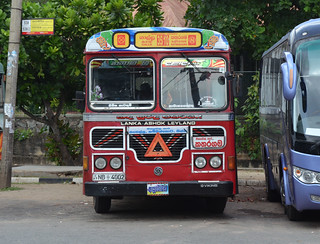bus: (82, 26, 239, 214), (261, 17, 320, 221)
